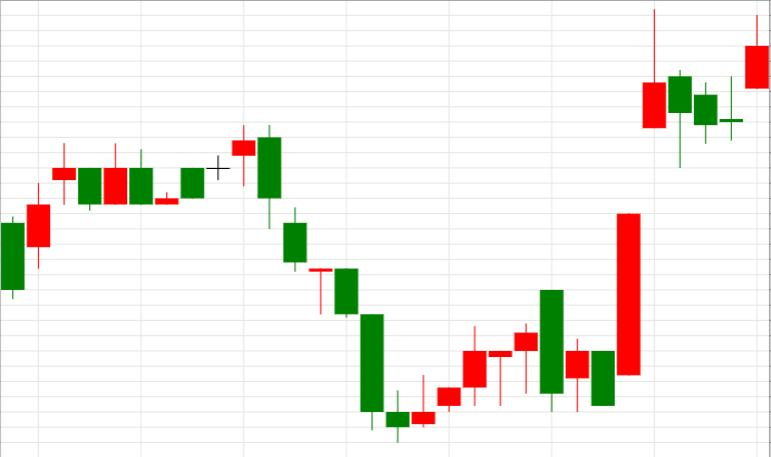morning_star_rise: (259, 124, 435, 443)
